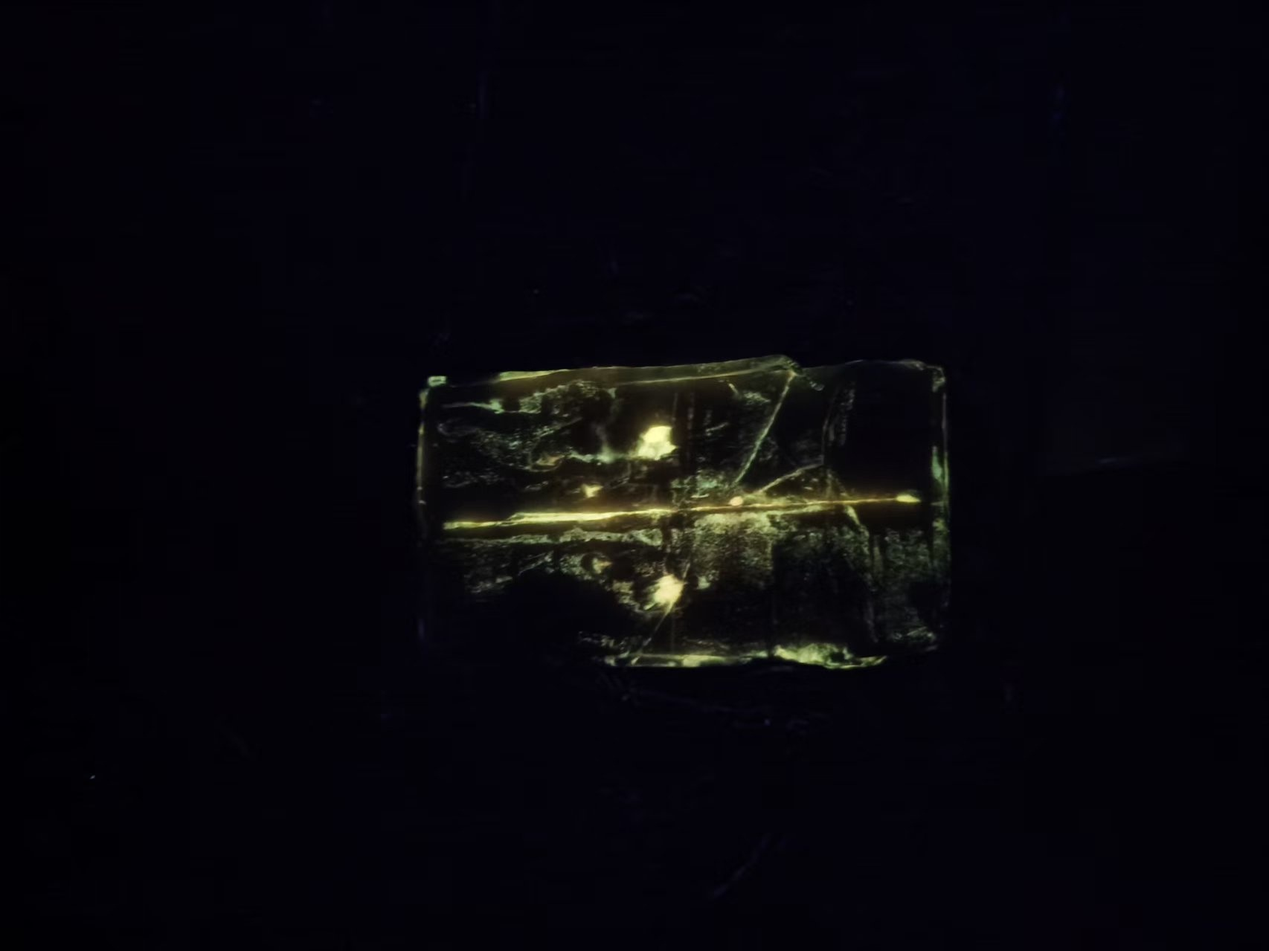Crater: (602, 408, 710, 477), (616, 556, 712, 624)
Fissure: (408, 474, 959, 546)
